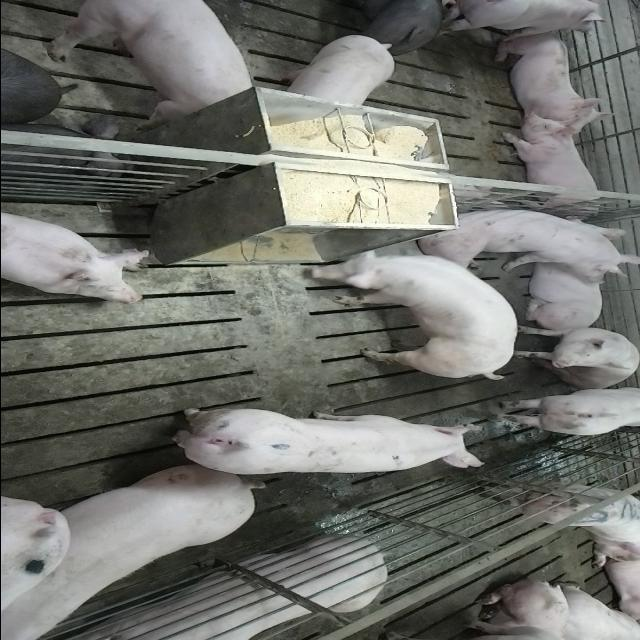Sitting: (412, 200, 636, 276), (518, 324, 640, 389)
Standing: (305, 248, 522, 384), (39, 2, 257, 122), (160, 407, 486, 478), (276, 34, 396, 108), (486, 386, 638, 438), (330, 0, 448, 52), (438, 0, 614, 33)
Sternal_lying: (58, 538, 393, 640), (0, 207, 151, 305), (491, 28, 605, 130), (516, 222, 620, 328), (500, 117, 610, 215)
